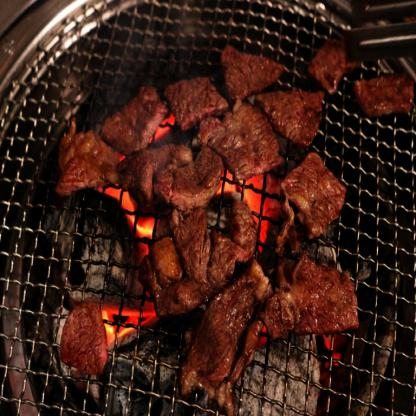Carne: (44, 84, 168, 200), (187, 256, 271, 402), (142, 206, 246, 321), (116, 137, 226, 218), (276, 148, 344, 261), (210, 95, 284, 191), (265, 266, 361, 340), (213, 36, 285, 108), (162, 70, 235, 136), (262, 82, 325, 147), (356, 68, 415, 114)
